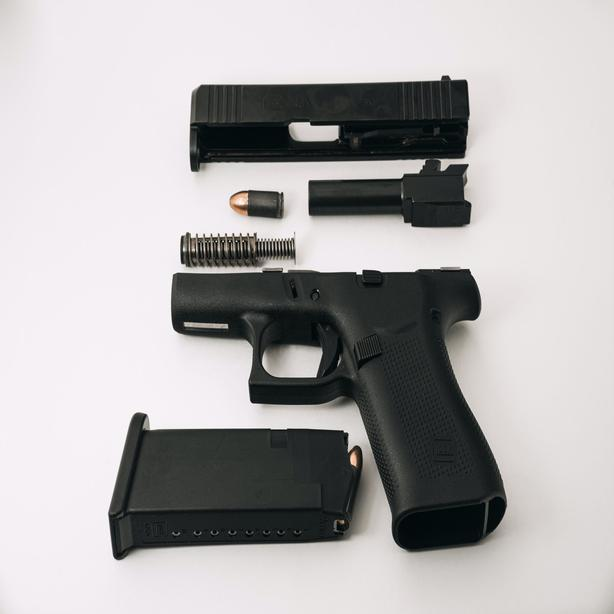Firearm: (105, 46, 514, 577)
